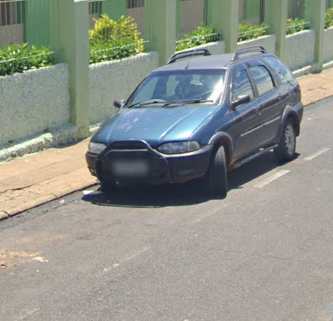car: (84, 45, 308, 208)
